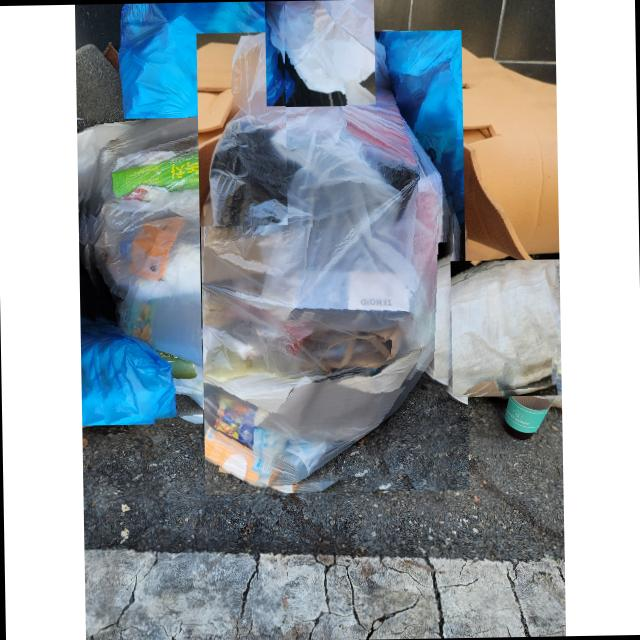other_trashbag: (200, 34, 454, 488), (119, 1, 284, 227), (85, 117, 203, 411), (450, 259, 558, 392), (266, 0, 375, 105)
